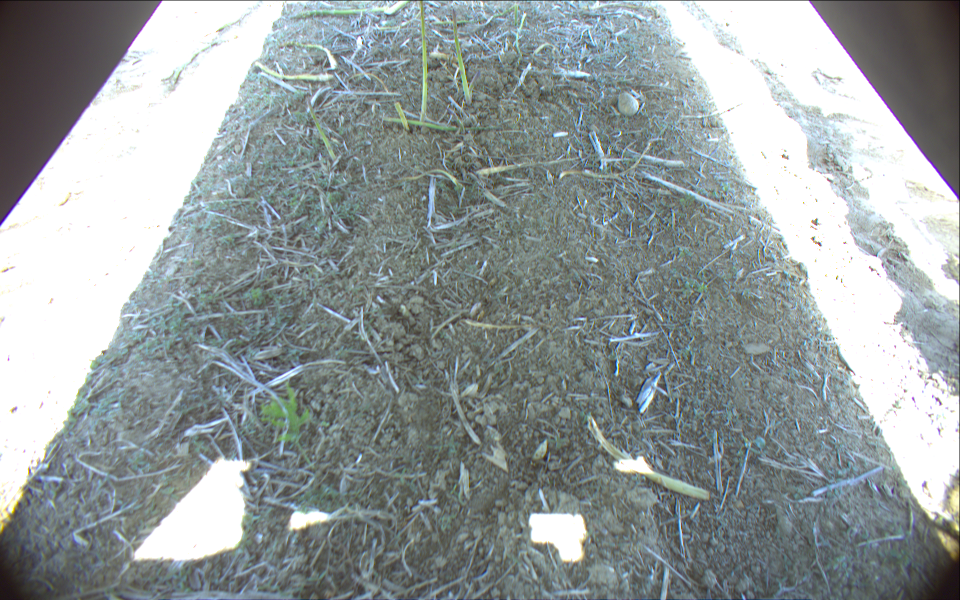aspa: (589, 419, 713, 503), (305, 87, 334, 162), (451, 11, 471, 103), (382, 117, 499, 130), (281, 43, 336, 69), (289, 6, 388, 19), (255, 63, 333, 79), (477, 3, 516, 29), (517, 12, 527, 67), (394, 100, 408, 135), (432, 18, 483, 27), (384, 1, 409, 13), (513, 1, 520, 26)
